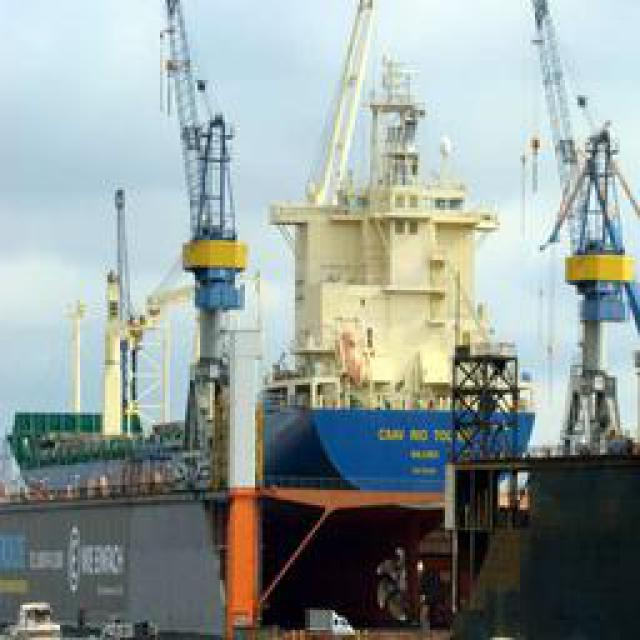Ship: (8, 601, 64, 640)
